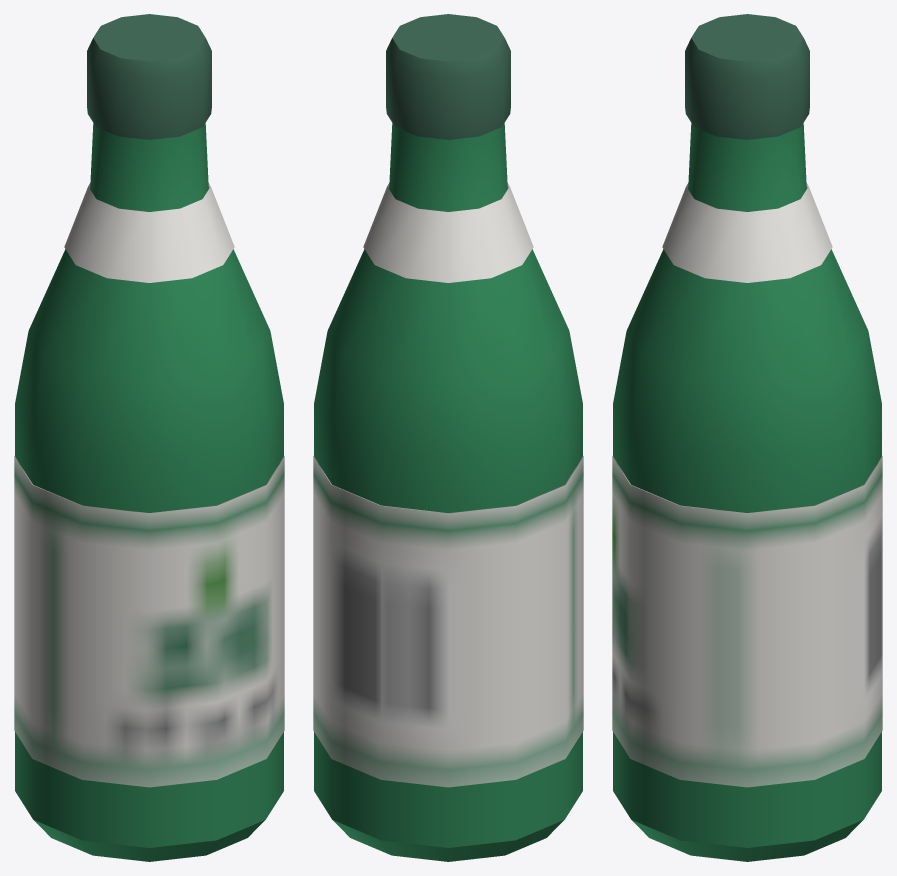
File: SC_Prod_Soju_Bottle.gltf
3 views of the same model, side by side, from view 1: azimuth 30°, elevation 25°; view 2: azimuth 150°, elevation 25°; view 3: azimuth 270°, elevation 25° (orthographic).
Parts seen in each view (by area): view 1: SC_Prod_Soju_Bottle; view 2: SC_Prod_Soju_Bottle; view 3: SC_Prod_Soju_Bottle.
Boxes of the visible parts, x1,y1,x2,y2 form: SC_Prod_Soju_Bottle: (14,14,284,861); SC_Prod_Soju_Bottle: (313,14,583,861); SC_Prod_Soju_Bottle: (612,14,882,861).
Bounding box in the file's own units: 0.0644 × 0.204 × 0.0644.
2 materials, 2 textured.
